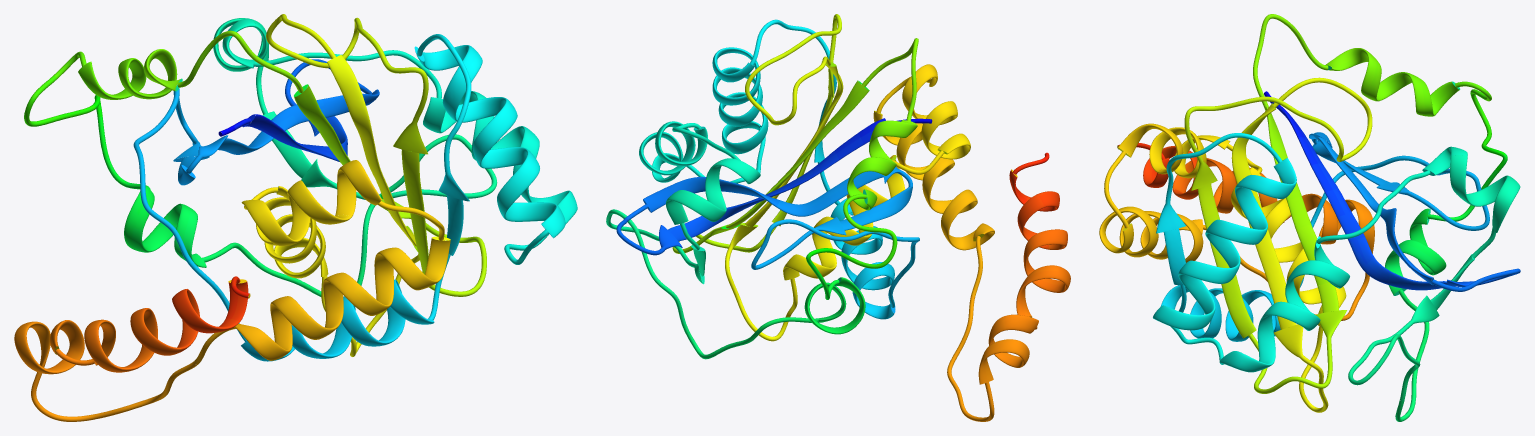
The model's file is slipknotDraco.gltf.
The picture shows the model from 3 angles, left to right: view 1: azimuth 30°, elevation 25°; view 2: azimuth 150°, elevation 25°; view 3: azimuth 270°, elevation 25°; orthographic projection. The views are drawn at different scales.
Visible parts, largest first — view 1: subnode_11, subnode_3, subnode_12, subnode_2, subnode_6, subnode_10, subnode_7, subnode_4, subnode_9, subnode_8, subnode_5, subnode_0 (+3 smaller); view 2: subnode_12, subnode_0, subnode_11, subnode_10, subnode_7, subnode_1, subnode_3, subnode_5, subnode_6, subnode_4, subnode_2, subnode_9 (+2 smaller); view 3: subnode_3, subnode_7, subnode_4, subnode_8, subnode_0, subnode_9, subnode_5, subnode_10, subnode_11, subnode_2, subnode_6, subnode_12 (+2 smaller).
Part boxes in pixels (x1,y1,x2,y2): subnode_11: (194,160,450,364); subnode_3: (415,34,565,264); subnode_12: (14,308,196,421); subnode_2: (171,143,469,361); subnode_6: (24,75,365,296); subnode_10: (241,180,353,339); subnode_7: (53,30,350,165); subnode_4: (222,18,577,263); subnode_9: (266,14,419,356); subnode_8: (354,17,486,296); subnode_5: (213,18,497,263); subnode_0: (220,59,379,161); subnode_12: (947,229,1070,421); subnode_0: (616,118,931,255); subnode_11: (873,64,994,296); subnode_10: (783,101,970,317); subnode_7: (749,38,918,229); subnode_1: (751,166,919,269); subnode_3: (712,19,829,173); subnode_5: (606,159,726,324); subnode_6: (682,225,897,359); subnode_4: (639,121,760,184); subnode_2: (814,74,915,319); subnode_9: (725,56,843,341); subnode_3: (1153,133,1296,344); subnode_7: (1253,14,1491,286); subnode_4: (1189,146,1467,372); subnode_8: (1184,96,1346,393); subnode_0: (1264,91,1520,291); subnode_9: (1231,77,1372,412); subnode_5: (1348,155,1520,401); subnode_10: (1149,127,1346,384); subnode_11: (1099,123,1245,265); subnode_2: (1156,180,1326,341); subnode_6: (1385,89,1507,421); subnode_12: (1172,158,1374,320).
Size of the model in its own units: 62.07 by 47.09 by 51.35.
